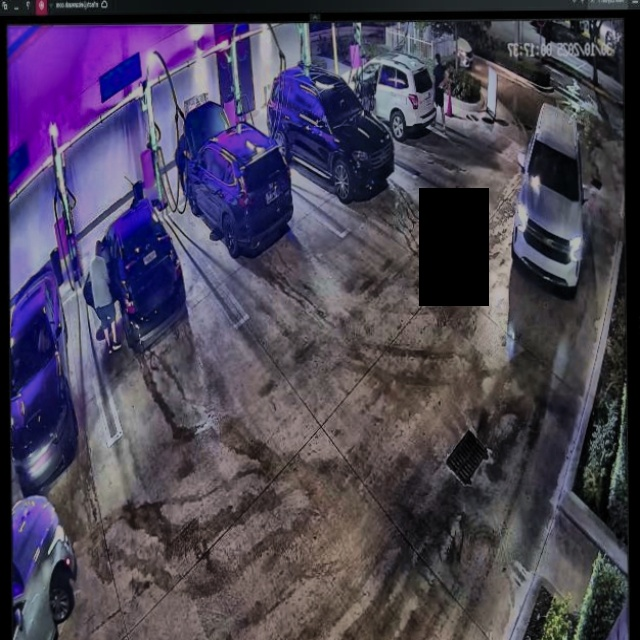Car: (183, 96, 289, 256), (268, 65, 389, 200), (85, 199, 183, 364)
